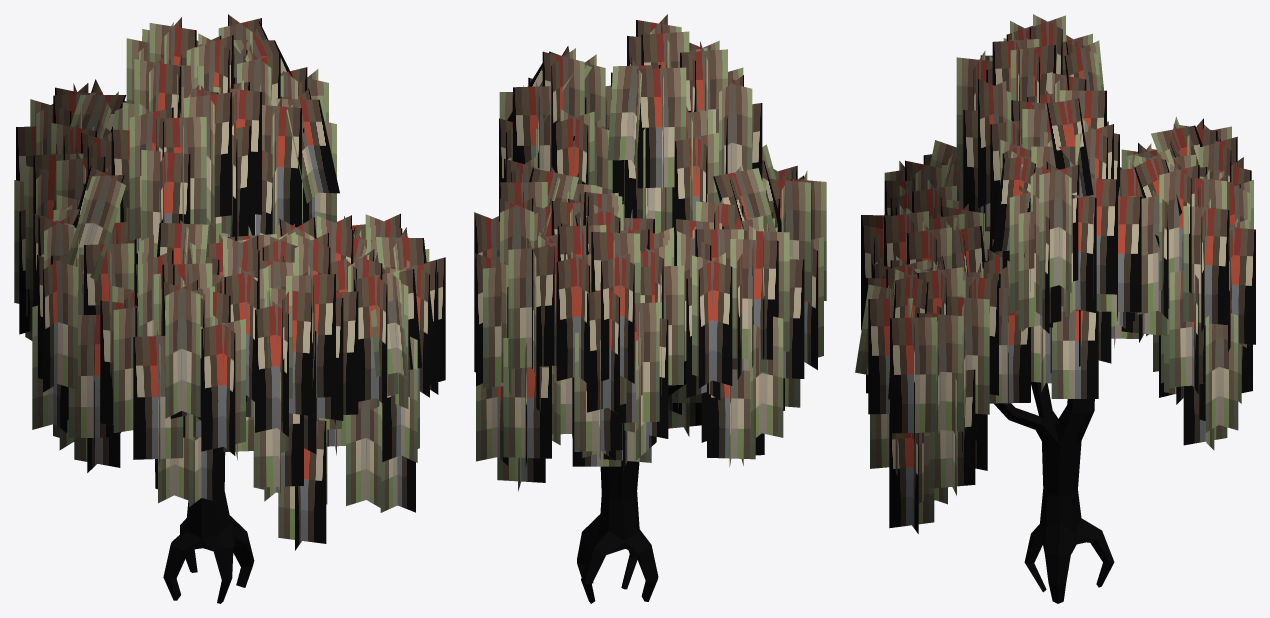
The model's file is SM_Tree_Willow_Large_01_LOD_01.fbx.
3 views of the same model, side by side, from view 1: azimuth 30°, elevation 25°; view 2: azimuth 150°, elevation 25°; view 3: azimuth 270°, elevation 25° (orthographic). The views are drawn at different scales.
Visible parts, largest first — view 1: SM_Tree_Willow_Large_01_LOD_01; view 2: SM_Tree_Willow_Large_01_LOD_01; view 3: SM_Tree_Willow_Large_01_LOD_01.
Part boxes in pixels (box(x1,y1,x2,y2)): SM_Tree_Willow_Large_01_LOD_01: box(14, 14, 445, 603); SM_Tree_Willow_Large_01_LOD_01: box(474, 14, 826, 603); SM_Tree_Willow_Large_01_LOD_01: box(855, 14, 1255, 603).
Size of the model in its own units: 580 by 962 by 635.
